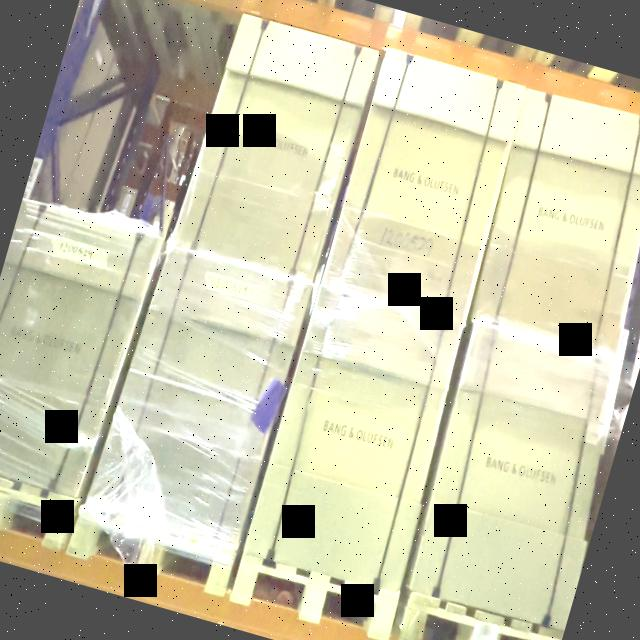box: (84, 246, 313, 556), (242, 286, 462, 591), (410, 325, 619, 631), (170, 15, 378, 286), (321, 50, 527, 323), (473, 88, 640, 358)
